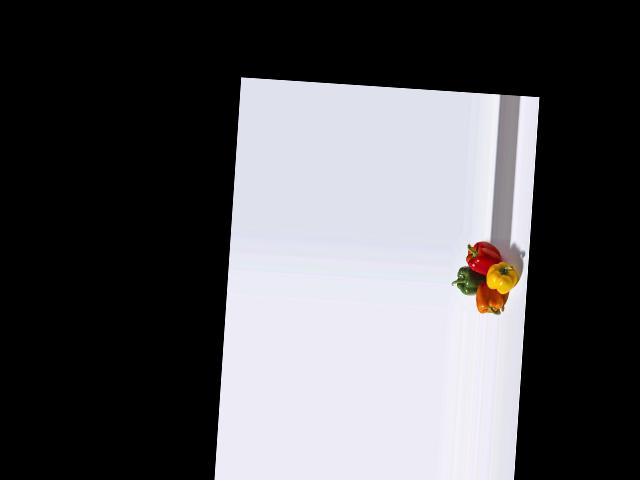bell_pepper: (461, 239, 502, 275)
